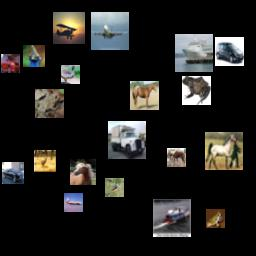airplane: (91, 12, 129, 50), (53, 12, 85, 44), (64, 193, 83, 212)
automobile: (215, 37, 244, 66), (2, 162, 24, 184), (1, 54, 20, 73)
bird: (23, 45, 45, 67), (105, 178, 124, 197), (61, 65, 80, 84)
deer: (34, 150, 56, 172)
frog: (182, 76, 211, 105), (35, 89, 64, 118), (206, 209, 225, 228)
ship: (153, 199, 191, 237), (175, 34, 213, 72)
truck: (108, 121, 146, 159)
